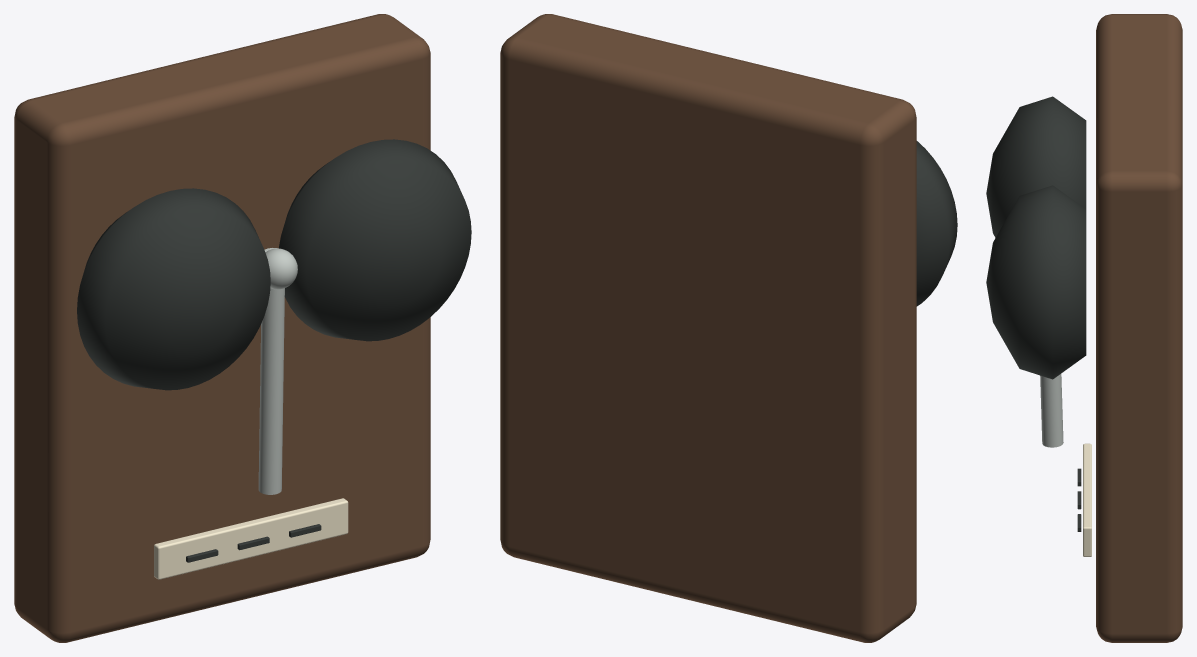
File: abandoned-telephone-exchange-telephone-bell-box-98147a1b__31992.glb
3 views of the same model, side by side, from view 1: azimuth 30°, elevation 25°; view 2: azimuth 150°, elevation 25°; view 3: azimuth 270°, elevation 25° (orthographic). The views are drawn at different scales.
Parts seen in each view (by area): view 1: telephone-bell-box; view 2: telephone-bell-box; view 3: telephone-bell-box.
Part boxes in pixels (bbox=[...]): telephone-bell-box: bbox=[14, 14, 471, 642]; telephone-bell-box: bbox=[500, 14, 957, 642]; telephone-bell-box: bbox=[986, 14, 1182, 642].
Bounding box in the file's own units: 0.304 × 0.39 × 0.1475.
